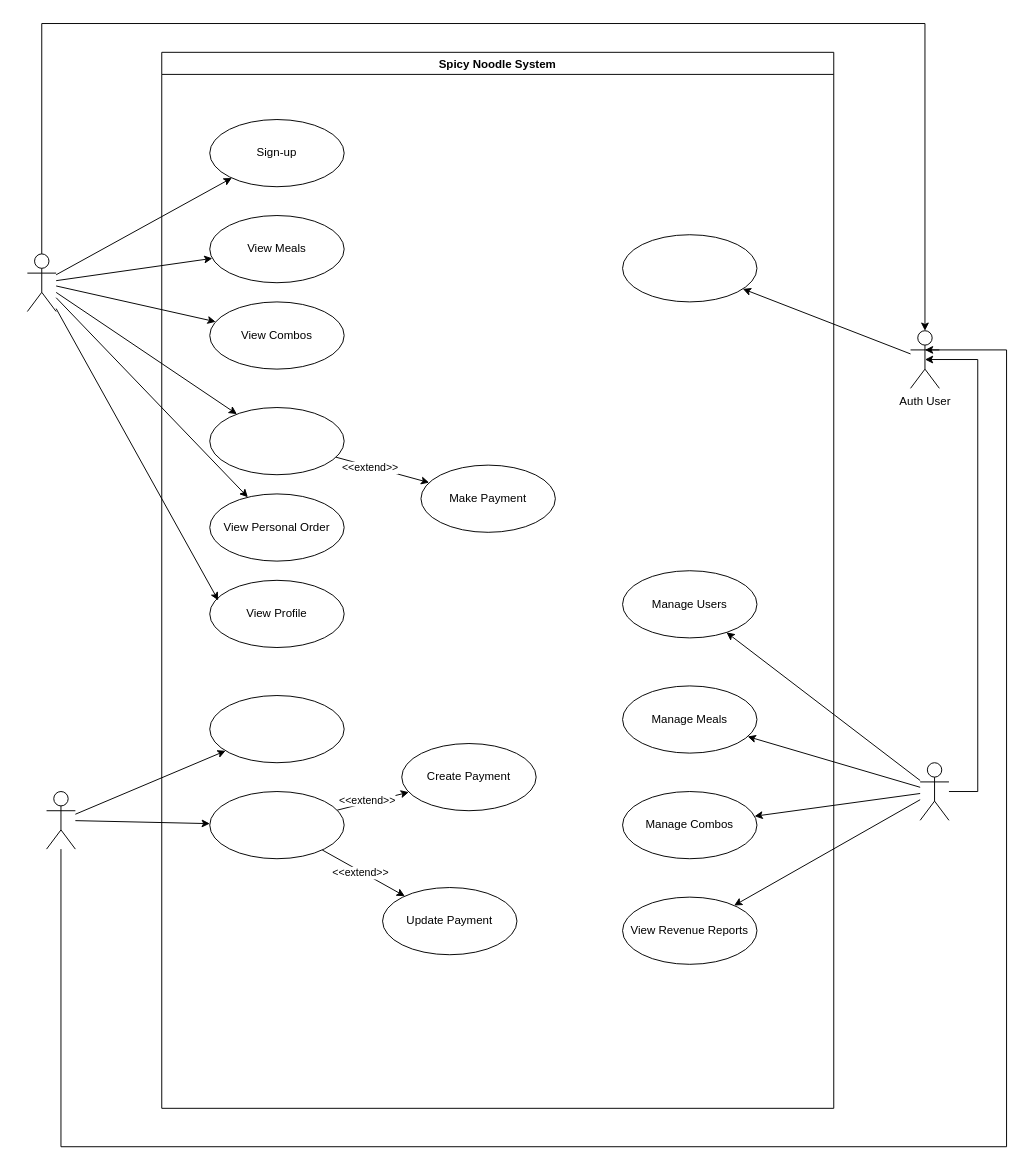
Some shapes in this 1031 by 1171 pixel diagram are drawn without their labels. The shapes that lost their labels are listed below. From the top down, each one's centre as x and y in pixels, then its label:
the point at 41,282: Customer
the point at 689,268: Sign-in
the point at 276,441: Place Order
the point at 276,729: View Orders
the point at 934,791: Admin
the point at 60,820: Staff
the point at 276,825: Update Order
